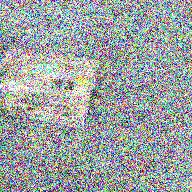러키펜정: (73, 86, 86, 96)
씨엠지세파클러캡슐: (46, 73, 72, 82)
에르도캡슐: (31, 64, 59, 73)
휴티렌정: (73, 74, 90, 88)
